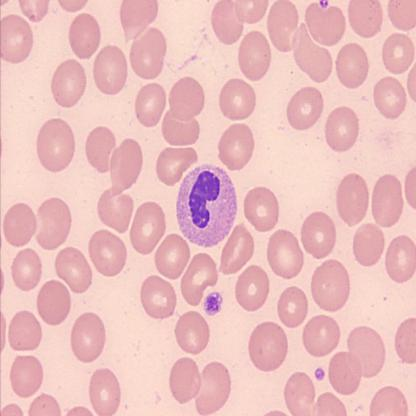Band Neutrophil: (174, 163, 239, 249)
